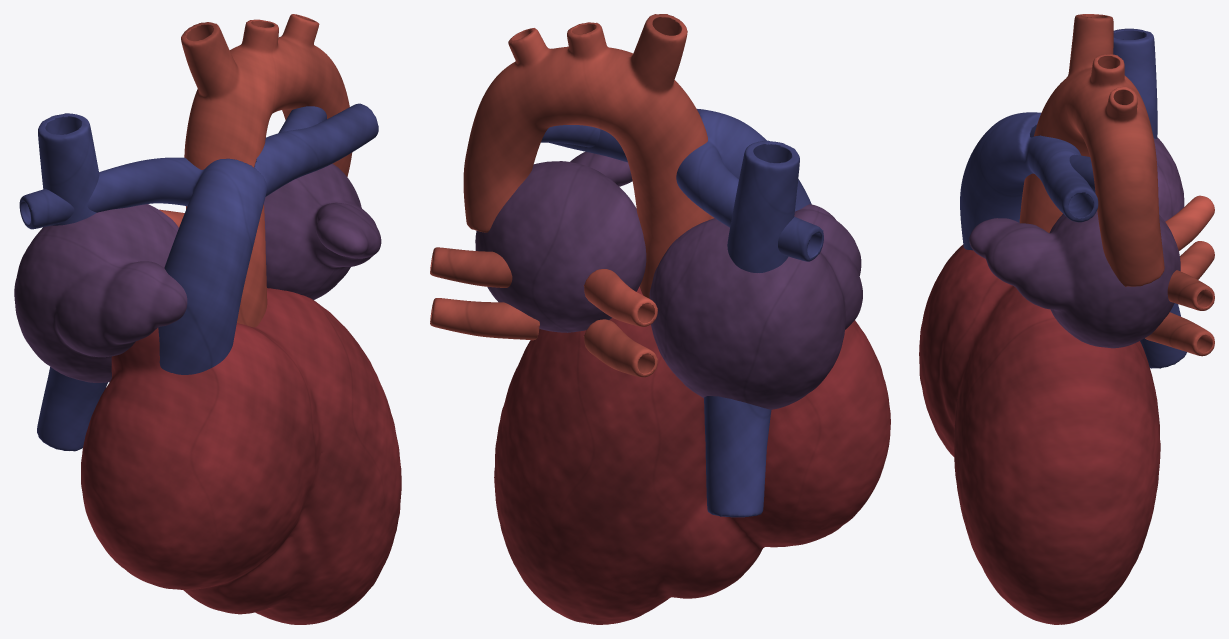
File: WholeHeart_04_Week08_FourChamberExterior.glb
3 views of the same model, side by side, from view 1: azimuth 30°, elevation 25°; view 2: azimuth 150°, elevation 25°; view 3: azimuth 270°, elevation 25° (orthographic). The views are drawn at different scales.
Parts seen in each view (by area): view 1: VentricularMyocardium, PulmonaryTrunkAndArteries, RightAtriumAndAuricle, AortaAndArch, LeftAtriumAndAuricle, SuperiorVenaCava, InferiorVenaCava, DuctusArteriosus; view 2: VentricularMyocardium, AortaAndArch, RightAtriumAndAuricle, LeftAtriumAndAuricle, PulmonaryTrunkAndArteries, SuperiorVenaCava, InferiorVenaCava, LeftPulmonaryVein2, LeftPulmonaryVein1, RightPulmonaryVein1, RightPulmonaryVein2, DuctusArteriosus; view 3: VentricularMyocardium, AortaAndArch, LeftAtriumAndAuricle, PulmonaryTrunkAndArteries, SuperiorVenaCava, LeftPulmonaryVein2, RightAtriumAndAuricle, RightPulmonaryVein1, LeftPulmonaryVein1, RightPulmonaryVein2, InferiorVenaCava, DuctusArteriosus.
Part boxes in pixels (x1,y1,x2,y2): VentricularMyocardium: [81, 288, 401, 624]; PulmonaryTrunkAndArteries: [19, 103, 378, 374]; RightAtriumAndAuricle: [14, 204, 187, 382]; AortaAndArch: [181, 14, 352, 327]; LeftAtriumAndAuricle: [264, 163, 381, 299]; SuperiorVenaCava: [38, 113, 99, 225]; InferiorVenaCava: [37, 367, 107, 451]; DuctusArteriosus: [278, 106, 326, 133]; VentricularMyocardium: [494, 286, 890, 624]; AortaAndArch: [463, 14, 714, 298]; RightAtriumAndAuricle: [649, 204, 862, 409]; LeftAtriumAndAuricle: [475, 151, 646, 332]; PulmonaryTrunkAndArteries: [549, 109, 823, 261]; SuperiorVenaCava: [727, 140, 799, 272]; InferiorVenaCava: [704, 396, 771, 517]; LeftPulmonaryVein2: [430, 298, 539, 340]; LeftPulmonaryVein1: [430, 247, 512, 287]; RightPulmonaryVein1: [583, 269, 657, 326]; RightPulmonaryVein2: [583, 319, 657, 377]; DuctusArteriosus: [541, 125, 600, 147]; VentricularMyocardium: [919, 244, 1160, 624]; AortaAndArch: [1019, 14, 1164, 286]; LeftAtriumAndAuricle: [969, 210, 1180, 348]; PulmonaryTrunkAndArteries: [960, 112, 1098, 250]; SuperiorVenaCava: [1113, 28, 1157, 138]; LeftPulmonaryVein2: [1145, 312, 1214, 356]; RightAtriumAndAuricle: [1153, 137, 1184, 221]; RightPulmonaryVein1: [1165, 195, 1214, 250]; LeftPulmonaryVein1: [1167, 270, 1214, 310]; RightPulmonaryVein2: [1180, 241, 1214, 279]; InferiorVenaCava: [1140, 303, 1186, 368]; DuctusArteriosus: [1069, 154, 1095, 193].
Bounding box in the file's own units: 0.1304 × 0.2204 × 0.1042.
4 materials, 4 textured.
